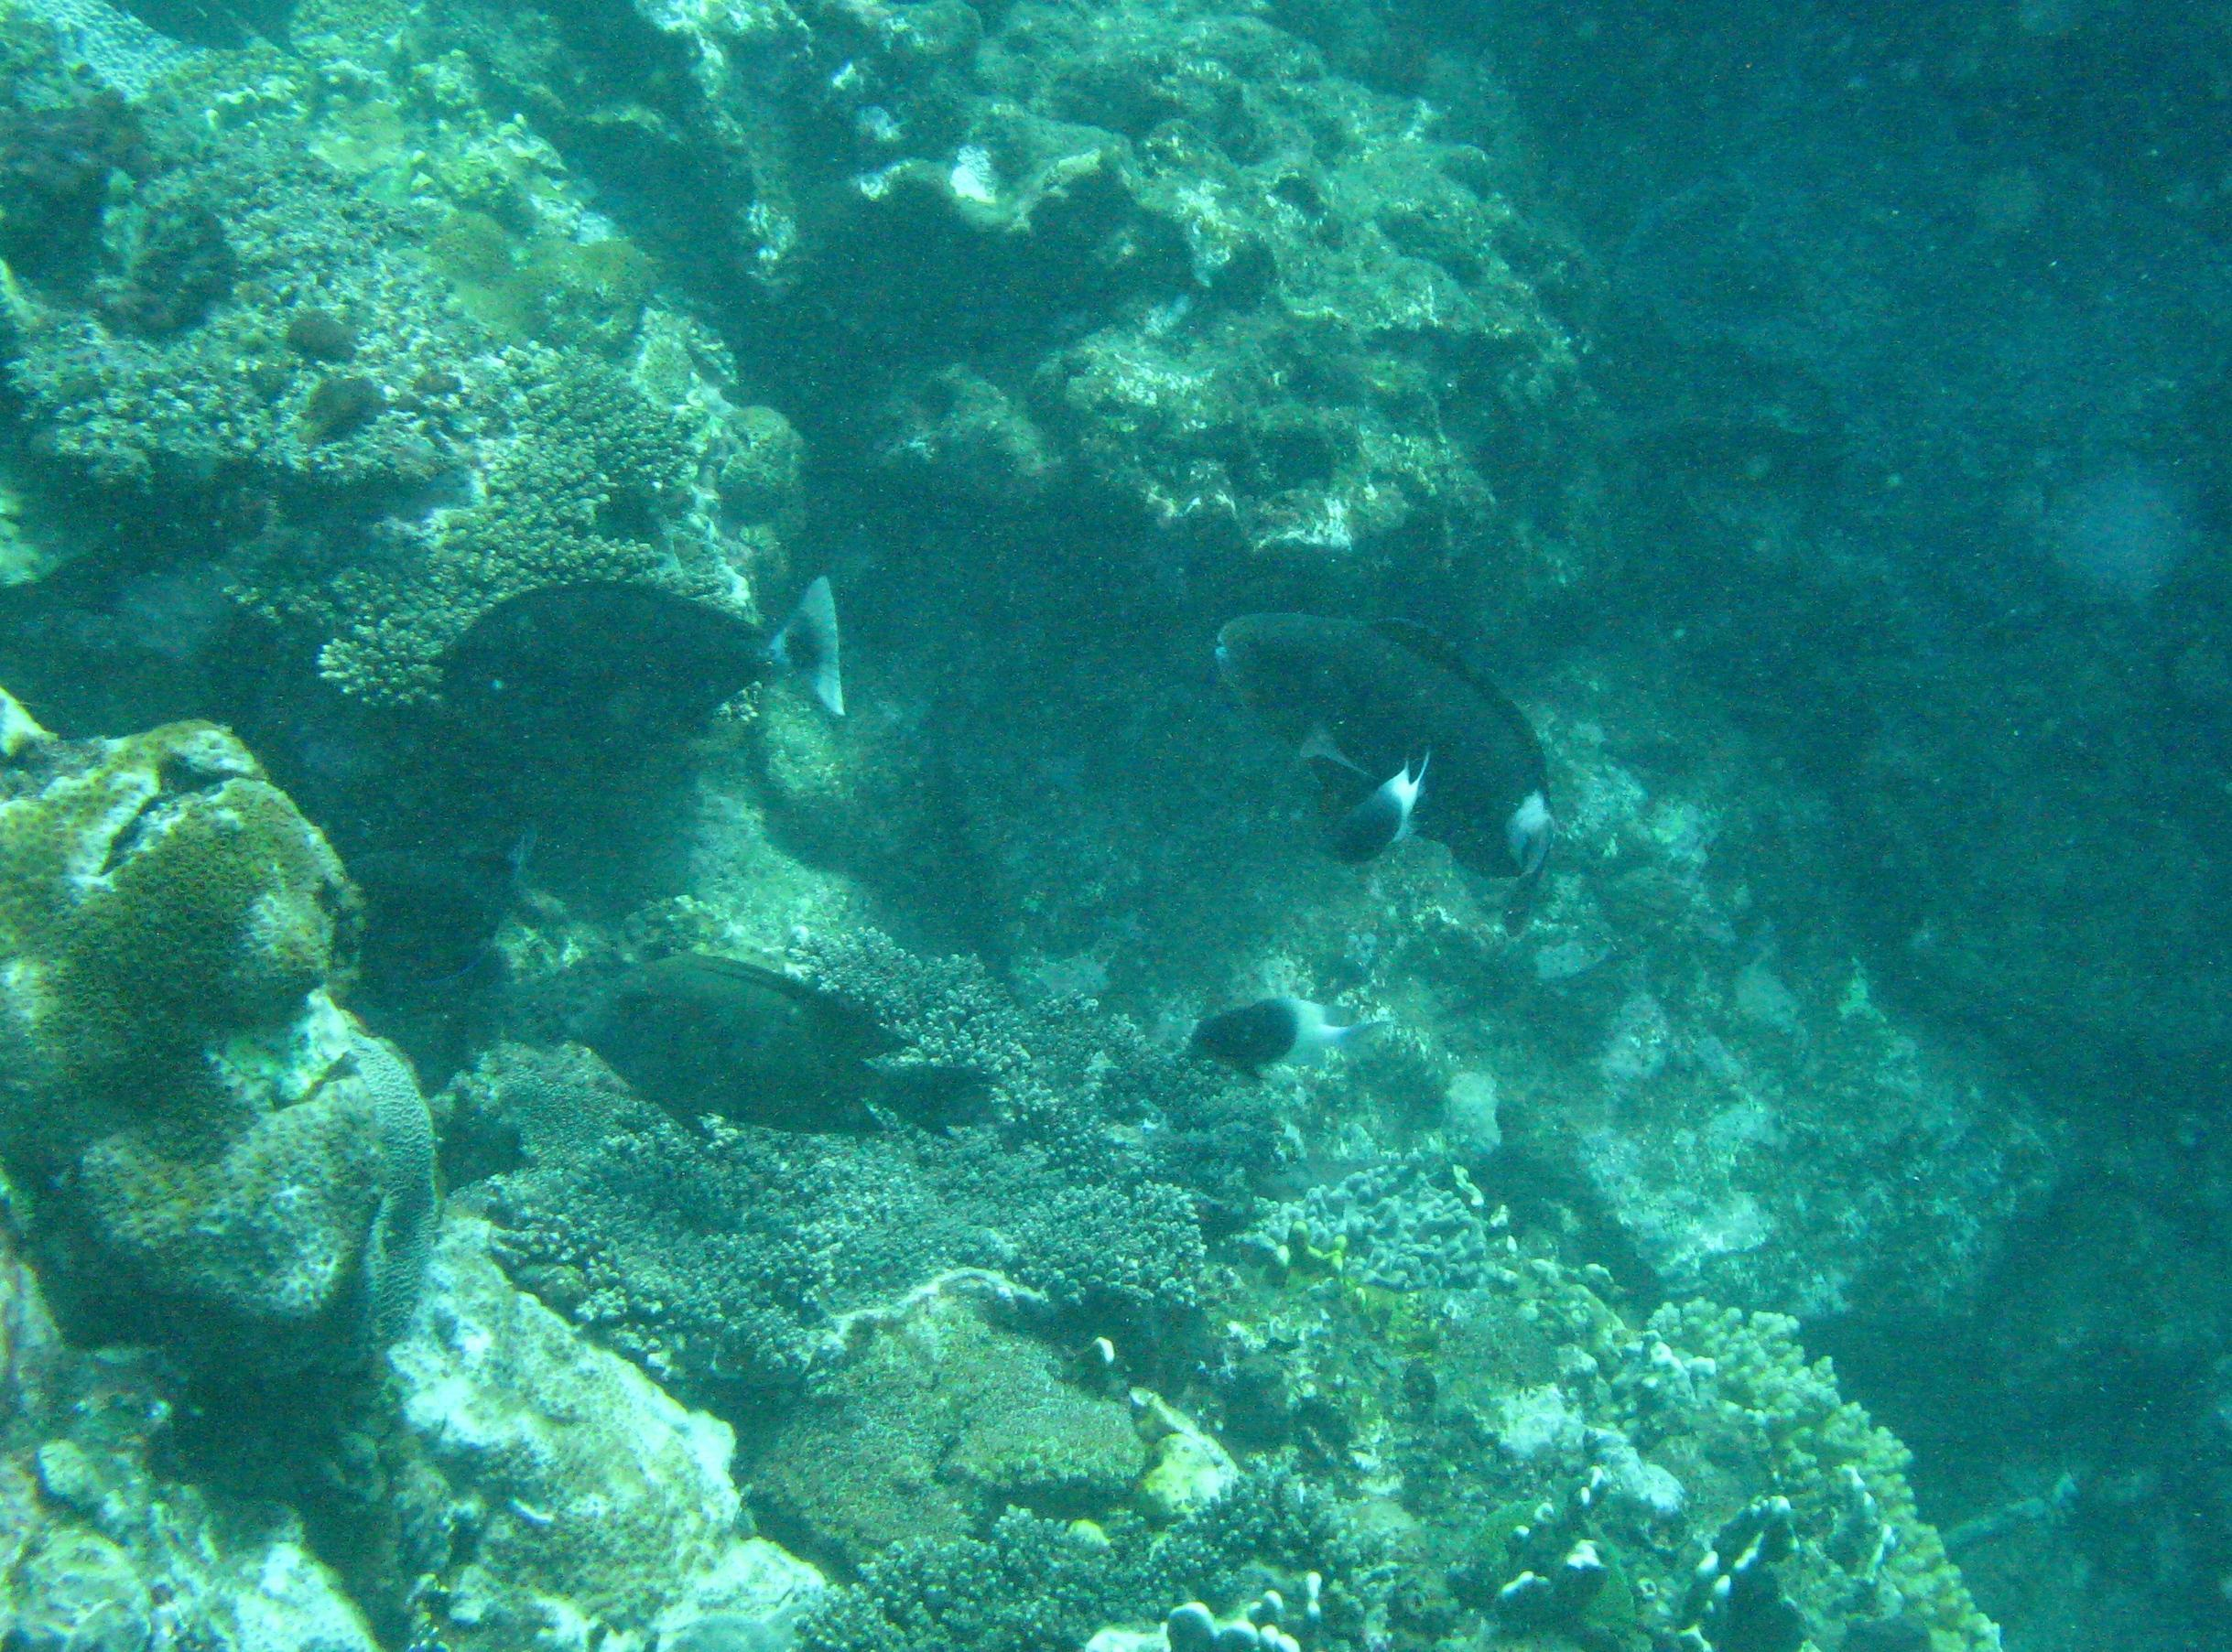Chlorurus sordidus: (1199, 587, 1727, 980), (1086, 569, 1907, 593)
